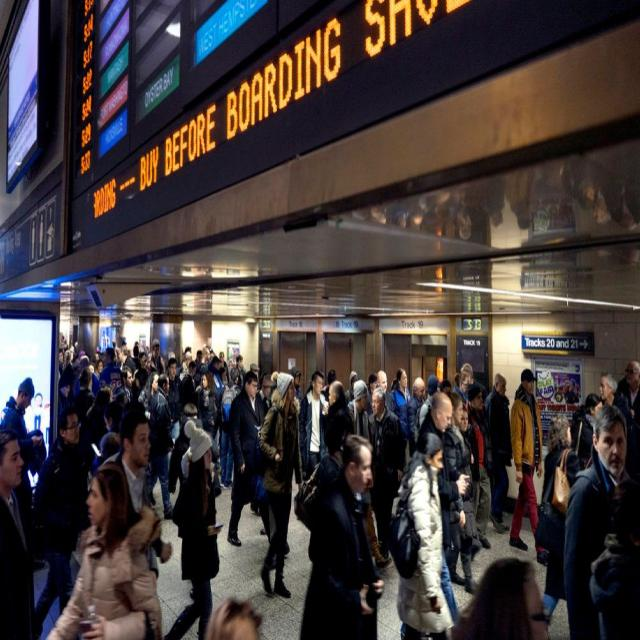body: (45, 462, 163, 640), (52, 321, 278, 408), (296, 431, 387, 639), (562, 401, 631, 640), (387, 430, 458, 639), (32, 405, 90, 637), (162, 417, 221, 640), (415, 388, 470, 589), (256, 372, 304, 601), (533, 413, 581, 623), (0, 374, 48, 570), (346, 375, 394, 569), (446, 553, 553, 640), (94, 408, 165, 530), (588, 476, 640, 639), (226, 369, 272, 548), (0, 426, 38, 639), (446, 391, 480, 596), (508, 366, 544, 554), (368, 385, 406, 561), (482, 368, 514, 536), (143, 371, 178, 522), (465, 382, 491, 551), (297, 368, 328, 482), (203, 593, 268, 640), (195, 370, 222, 476), (321, 378, 356, 458), (219, 366, 241, 490), (570, 392, 604, 470), (621, 360, 640, 484), (597, 370, 633, 432), (143, 371, 159, 506), (92, 402, 122, 474), (389, 366, 414, 451), (406, 374, 426, 458), (165, 356, 183, 446), (98, 346, 124, 398), (31, 392, 52, 454), (73, 354, 101, 398), (458, 402, 475, 470), (408, 376, 426, 440), (75, 366, 96, 419), (459, 362, 486, 402), (179, 360, 198, 410), (554, 370, 583, 402), (144, 337, 166, 378), (260, 372, 276, 428), (112, 364, 134, 404), (376, 368, 395, 414), (57, 374, 71, 420), (230, 354, 248, 389), (322, 366, 338, 404), (452, 372, 470, 404), (289, 364, 304, 400), (344, 370, 359, 404), (367, 372, 378, 416), (439, 368, 459, 392), (0, 394, 15, 424), (218, 350, 230, 384), (61, 350, 74, 374), (182, 349, 194, 372), (68, 340, 78, 364), (58, 348, 64, 388), (194, 348, 203, 374), (318, 368, 326, 389), (62, 338, 69, 354), (59, 337, 64, 358), (69, 350, 74, 366), (61, 334, 64, 352)
